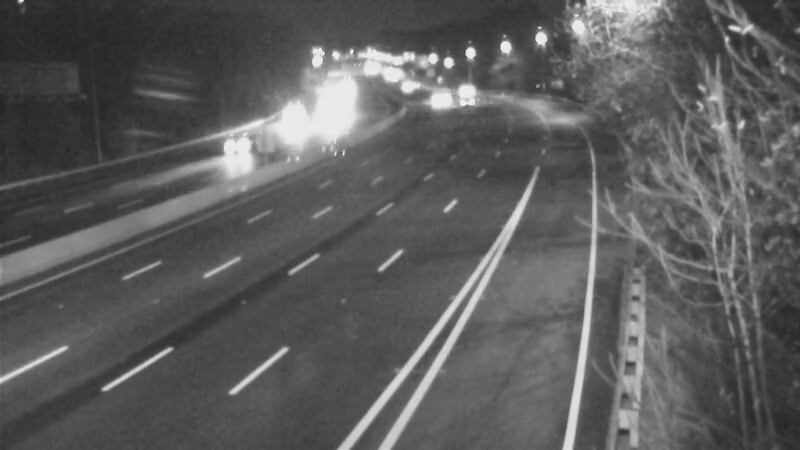vehicle: (437, 63, 487, 113), (410, 71, 460, 121), (435, 74, 485, 124), (209, 125, 259, 175), (266, 94, 316, 144)
